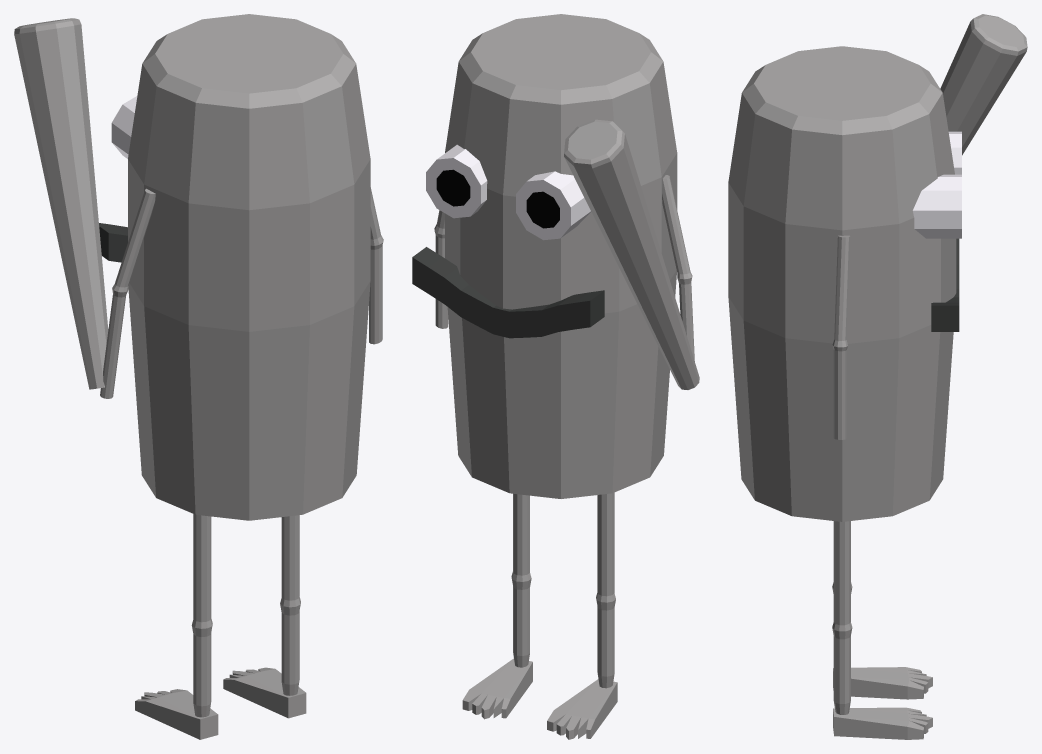
The model's file is TungTung.fbx.
The picture shows the model from 3 angles, left to right: view 1: azimuth 30°, elevation 25°; view 2: azimuth 150°, elevation 25°; view 3: azimuth 270°, elevation 25°; orthographic projection. The views are drawn at different scales.
Parts seen in each view (by area): view 1: Cylinder; view 2: Cylinder; view 3: Cylinder.
Part boxes in pixels (x1,y1,x2,y2): Cylinder: [14, 14, 383, 739]; Cylinder: [412, 14, 699, 739]; Cylinder: [728, 14, 1027, 739].
Bounding box in the file's own units: 305 × 697 × 297.
